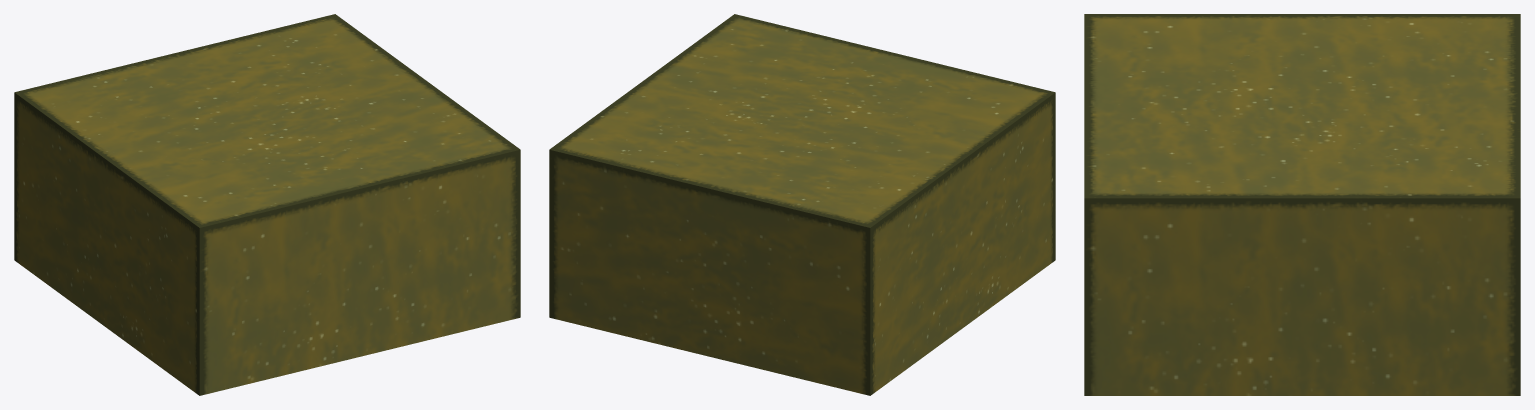
The model's file is 1_path.obj.
3 renders of one model, left to right at view 1: azimuth 30°, elevation 25°; view 2: azimuth 150°, elevation 25°; view 3: azimuth 270°, elevation 25°, orthographic. The views are drawn at different scales.
Visible parts, largest first — view 1: 1_path; view 2: 1_path; view 3: 1_path.
Boxes of the visible parts, box(x1,y1,x2,y2) form: 1_path: box(14, 14, 520, 395); 1_path: box(549, 14, 1055, 395); 1_path: box(1084, 14, 1520, 395).
Size of the model in its own units: 1 by 0.5 by 1.
1 material, 1 textured.
